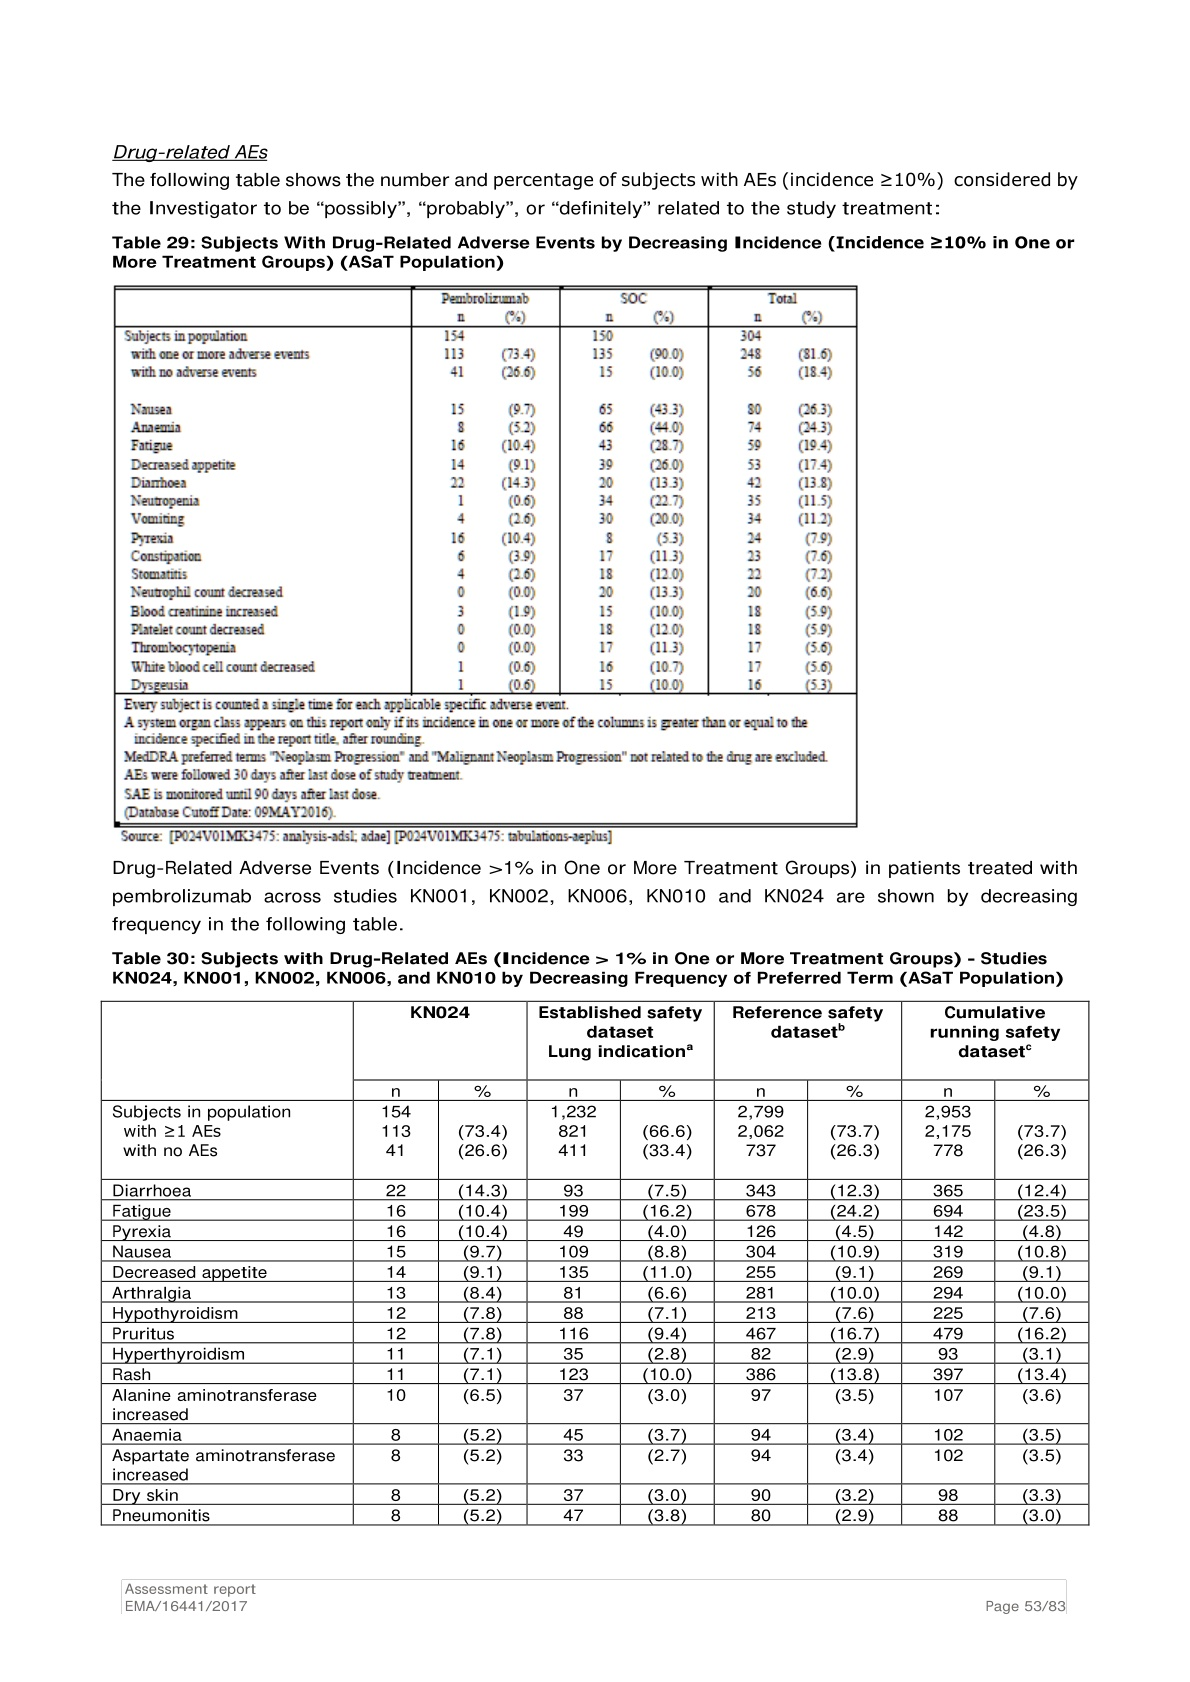merged_cells: (100, 999, 1091, 1527)
partial_lined_merged_cells: (113, 285, 859, 827)
